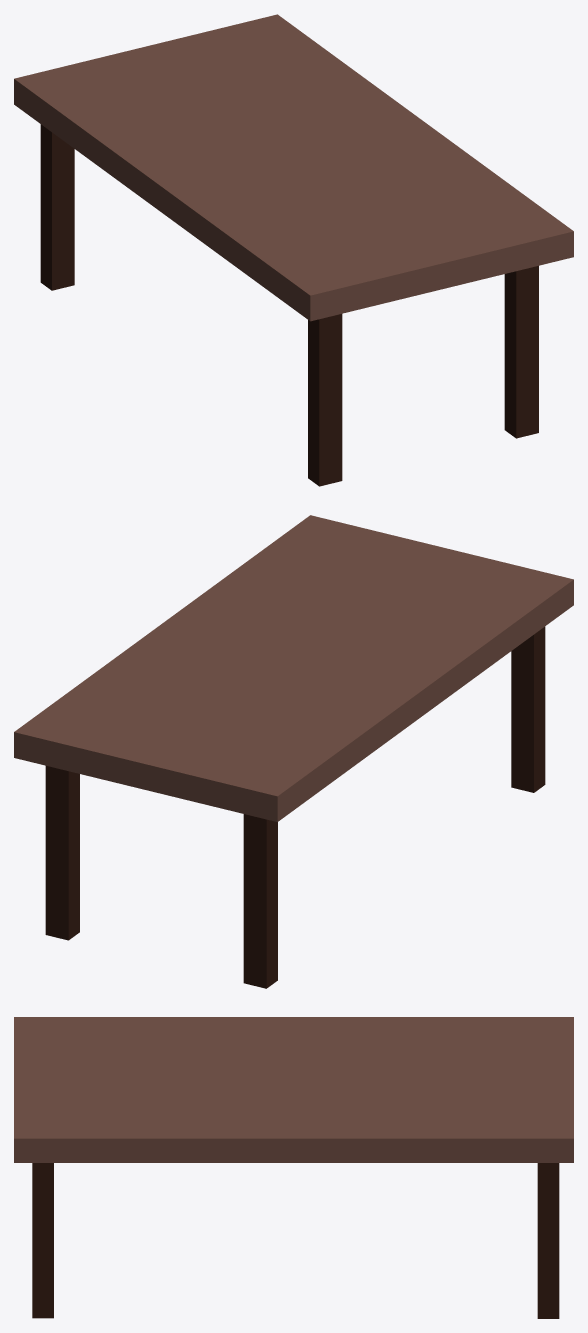
Rendered from Desk.fbx.
3 views of the same model, one above another, from view 1: azimuth 30°, elevation 25°; view 2: azimuth 150°, elevation 25°; view 3: azimuth 270°, elevation 25° (orthographic). The views are drawn at different scales.
Parts seen in each view (by area): view 1: Cube.004, Cube.002, Cube.001, Cube.003; view 2: Cube.004, Cube.005, Cube.003, Cube.002; view 3: Cube.004, Cube.005, Cube.001.
Boxes of the visible parts, x1=… form: Cube.004: x1=14, y1=14, x2=573, y2=321; Cube.002: x1=308, y1=314, x2=342, y2=486; Cube.001: x1=504, y1=265, x2=538, y2=438; Cube.003: x1=40, y1=124, x2=74, y2=290; Cube.004: x1=14, y1=515, x2=573, y2=821; Cube.005: x1=45, y1=766, x2=79, y2=940; Cube.003: x1=243, y1=814, x2=277, y2=988; Cube.002: x1=511, y1=626, x2=545, y2=792; Cube.004: x1=14, y1=1017, x2=573, y2=1162; Cube.005: x1=537, y1=1163, x2=559, y2=1318; Cube.001: x1=32, y1=1163, x2=53, y2=1318.
Size of the model in its own units: 1098 by 807 by 2138.
